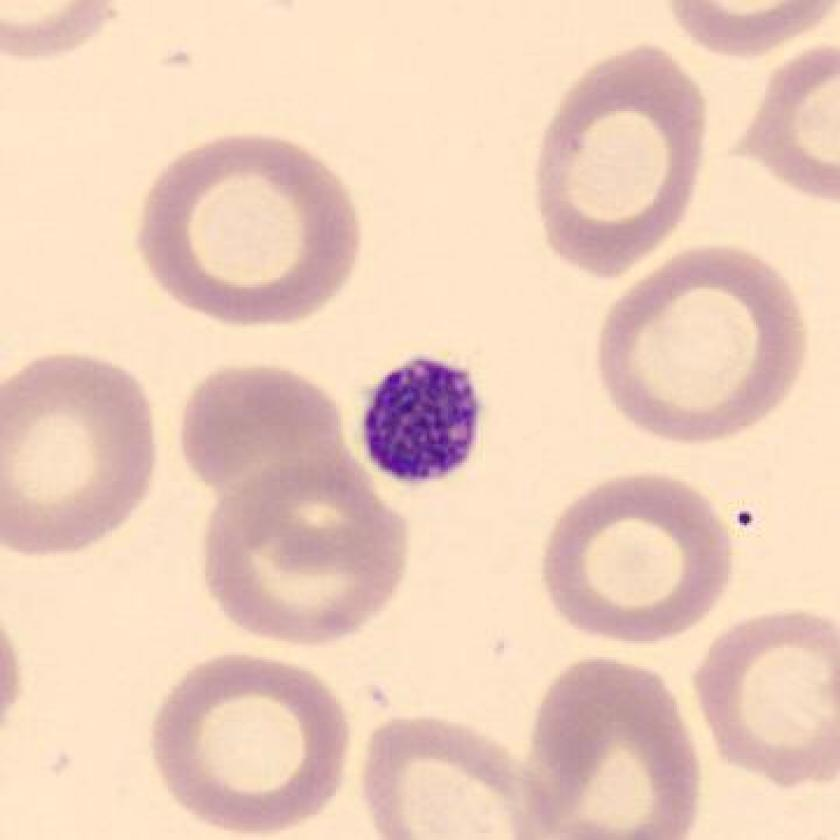platelets: (351, 346, 491, 498)
